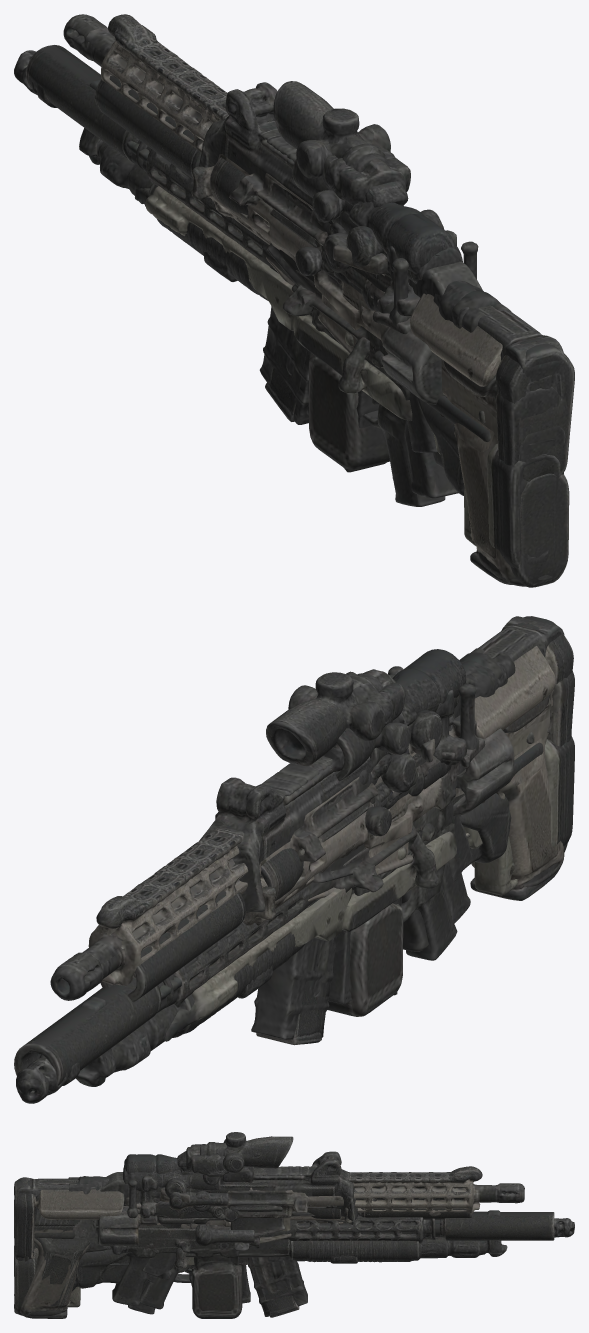
File: weapons-uSRUq9DQ.glb
The picture shows the model from 3 angles, top to bottom: view 1: azimuth 30°, elevation 25°; view 2: azimuth 150°, elevation 25°; view 3: azimuth 270°, elevation 25°; orthographic projection. The views are drawn at different scales.
Parts seen in each view (by area): view 1: weapon_0, weapon_3, weapon_2, weapon_1, weapon_4, weapon_6, weapon_5, weapon_7, weapon_8; view 2: weapon_0, weapon_2, weapon_1, weapon_3, weapon_4, weapon_6, weapon_7, weapon_5, weapon_8; view 3: weapon_0, weapon_1, weapon_4, weapon_6, weapon_5, weapon_3, weapon_2, weapon_8, weapon_7.
Boxes of the visible parts, <box> form: weapon_0: <box>63,14,574,481</box>; weapon_3: <box>94,76,560,472</box>; weapon_2: <box>14,50,560,568</box>; weapon_1: <box>26,45,565,498</box>; weapon_4: <box>198,82,564,421</box>; weapon_6: <box>79,79,569,587</box>; weapon_5: <box>326,181,552,586</box>; weapon_7: <box>337,278,555,584</box>; weapon_8: <box>430,285,511,582</box>; weapon_0: <box>50,616,573,1039</box>; weapon_2: <box>16,736,574,1103</box>; weapon_1: <box>14,753,470,1085</box>; weapon_3: <box>100,649,574,1002</box>; weapon_4: <box>199,616,564,1045</box>; weapon_6: <box>75,793,567,1086</box>; weapon_7: <box>388,660,564,890</box>; weapon_5: <box>370,689,560,888</box>; weapon_8: <box>459,648,561,900</box>; weapon_0: <box>14,1132,524,1316</box>; weapon_1: <box>14,1191,554,1318</box>; weapon_4: <box>14,1142,376,1317</box>; weapon_6: <box>14,1210,507,1313</box>; weapon_5: <box>14,1151,224,1316</box>; weapon_3: <box>14,1154,471,1286</box>; weapon_2: <box>14,1208,574,1314</box>; weapon_8: <box>26,1176,161,1318</box>; weapon_7: <box>20,1176,109,1318</box>.
Bounding box in the file's own units: 0.1147 × 0.354 × 1.01.
Materials: 1 (1 with a texture image).
